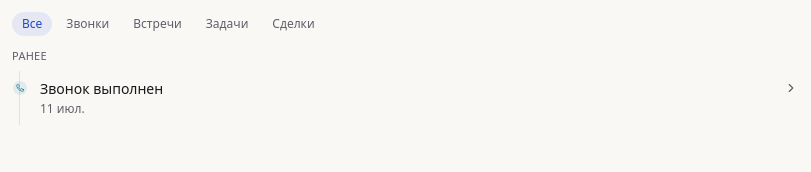
S-TL-3 — виды уходят в RPC › клик по чипу отправляет ВЫБРАННЫЙ вид и начинает ленту с первой страницы
Expected: the text "Звонок выполнен" is shown, 40,78 -> 163,98
Click the button "Задачи". click: point(227, 24)
box: 196,12 -> 258,36
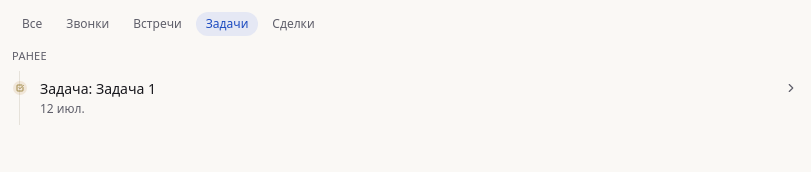
Now the text "Задача: Задача 1" is shown, box 40,78 -> 156,98
